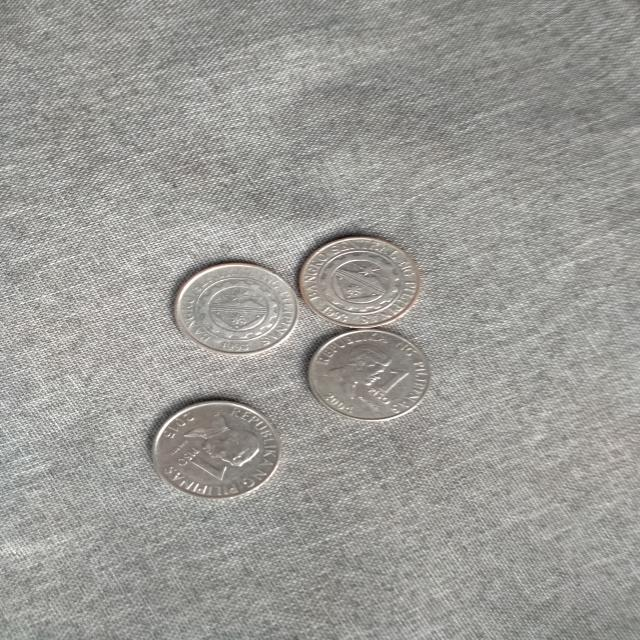1_Old_Back: (313, 245, 405, 318), (195, 277, 291, 343)
